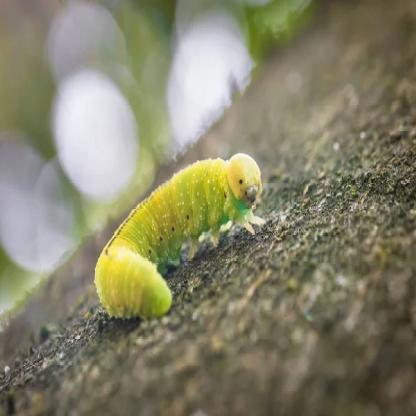sawfly: (92, 150, 267, 328)
